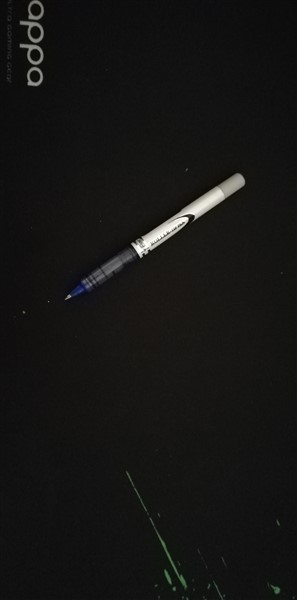pilot kalem: (57, 166, 251, 307)
